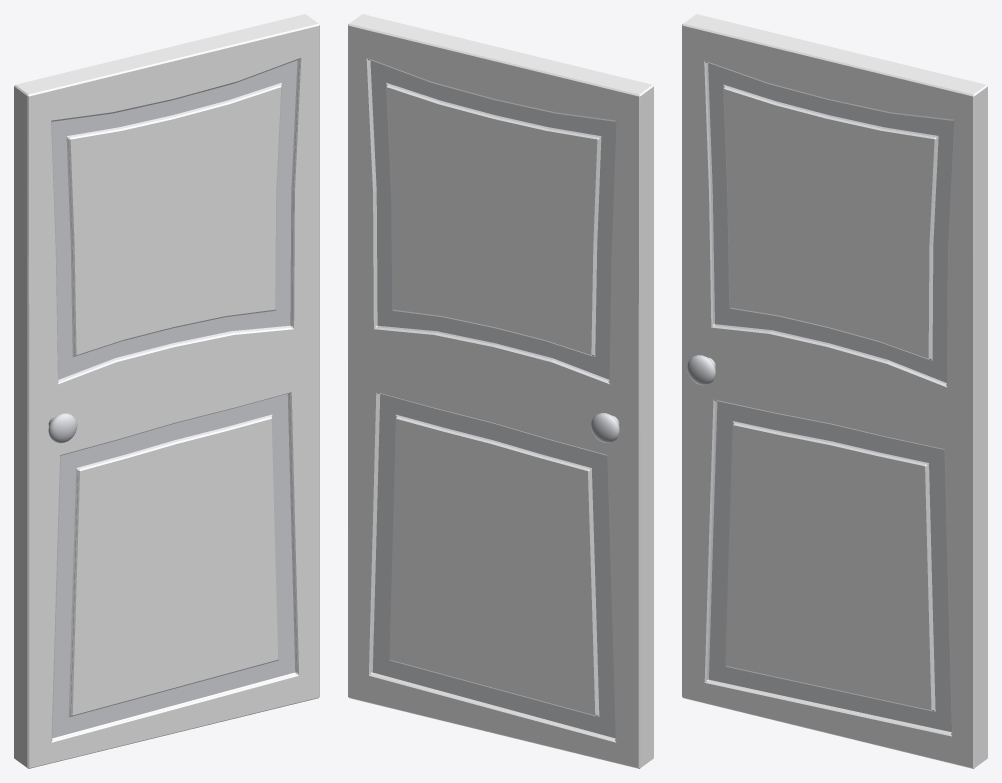
File: Door.fbx
3 views of the same model, side by side, from view 1: azimuth 30°, elevation 25°; view 2: azimuth 150°, elevation 25°; view 3: azimuth 330°, elevation 25° (orthographic).
Visible parts, largest first — view 1: Door; view 2: Door; view 3: Door.
Boxes of the visible parts, left/top/right/bottom form: Door: left=14, top=14, right=319, bottom=768; Door: left=348, top=14, right=653, bottom=768; Door: left=682, top=14, right=987, bottom=768.
Bounding box in the file's own units: 0.8523 × 1.88 × 0.1873.
